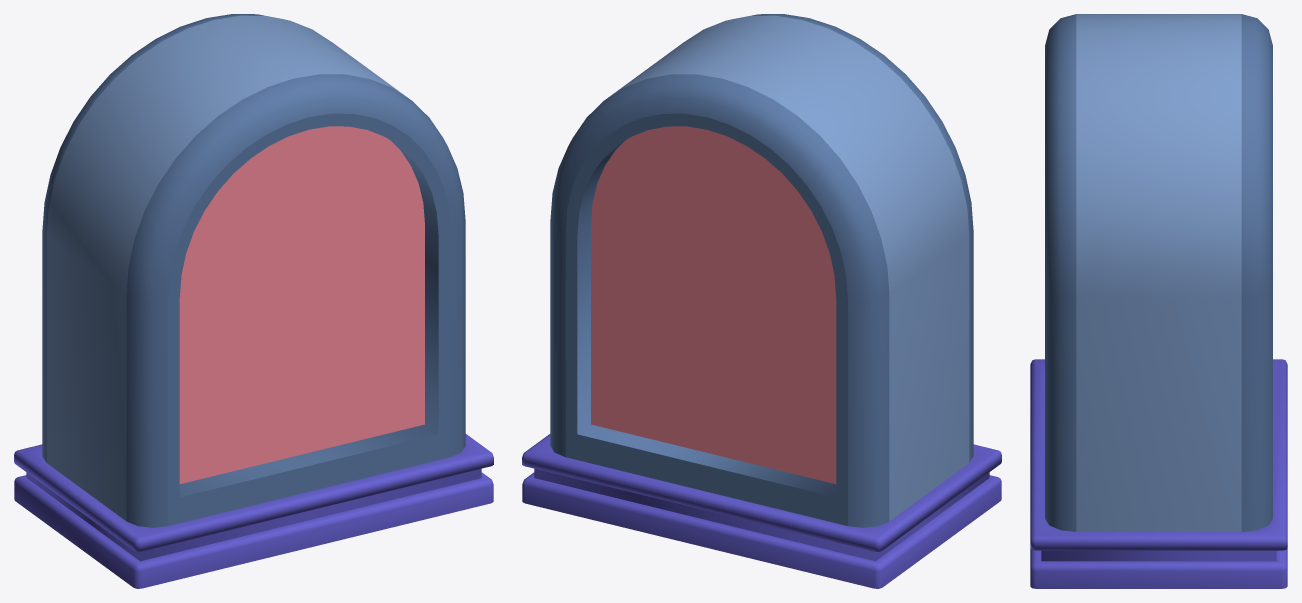
File: Wall_Tile_TombieBlock.fbx
3 views of the same model, side by side, from view 1: azimuth 30°, elevation 25°; view 2: azimuth 150°, elevation 25°; view 3: azimuth 270°, elevation 25° (orthographic). The views are drawn at different scales.
Visible parts, largest first — view 1: Wall_Tile_TombieBlock; view 2: Wall_Tile_TombieBlock; view 3: Wall_Tile_TombieBlock.
Part boxes in pixels (x1,y1,x2,y2): Wall_Tile_TombieBlock: [14, 14, 493, 588]; Wall_Tile_TombieBlock: [522, 14, 1001, 588]; Wall_Tile_TombieBlock: [1030, 14, 1287, 588].
Size of the model in its own units: 2 by 1.2 by 2.4.
